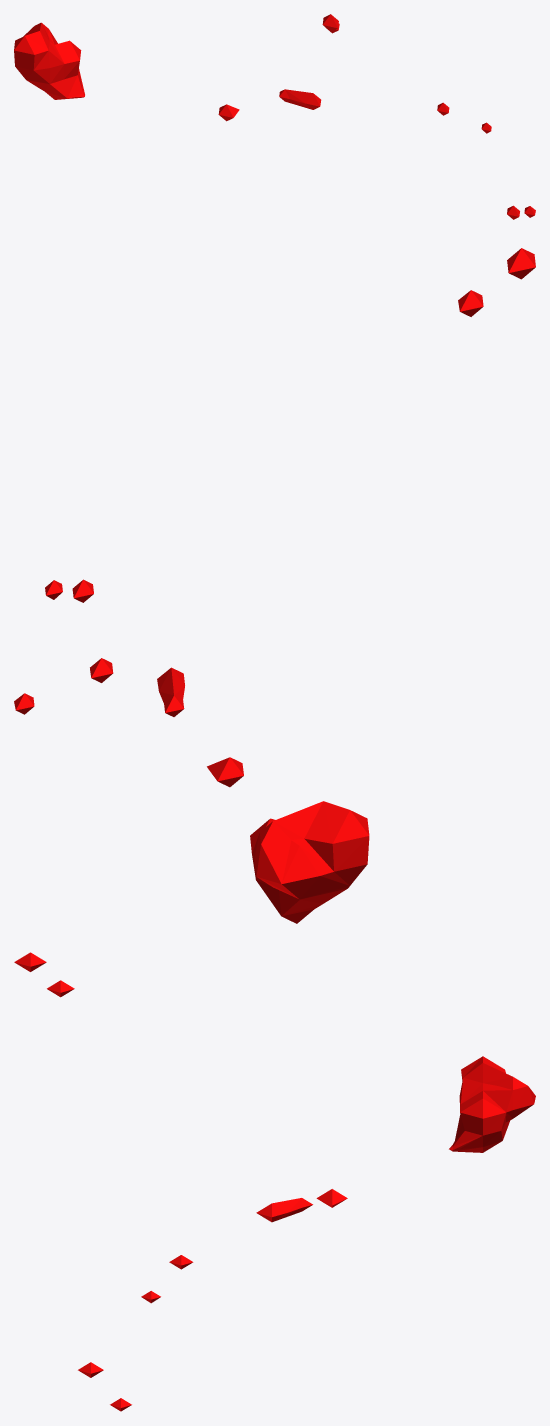
The model's file is hrpA_coarse.dae.
The picture shows the model from 3 angles, top to bottom: view 1: azimuth 30°, elevation 25°; view 2: azimuth 150°, elevation 25°; view 3: azimuth 270°, elevation 25°; orthographic projection. The views are drawn at different scales.
Parts seen in each view (by area): view 1: hrpA; view 2: hrpA; view 3: hrpA.
Part boxes in pixels (box(x1,y1,x2,y2)): hrpA: box(14, 14, 535, 219); hrpA: box(14, 248, 535, 923); hrpA: box(14, 952, 535, 1411).
Bounding box in the file's own units: 434 × 335 × 483.
